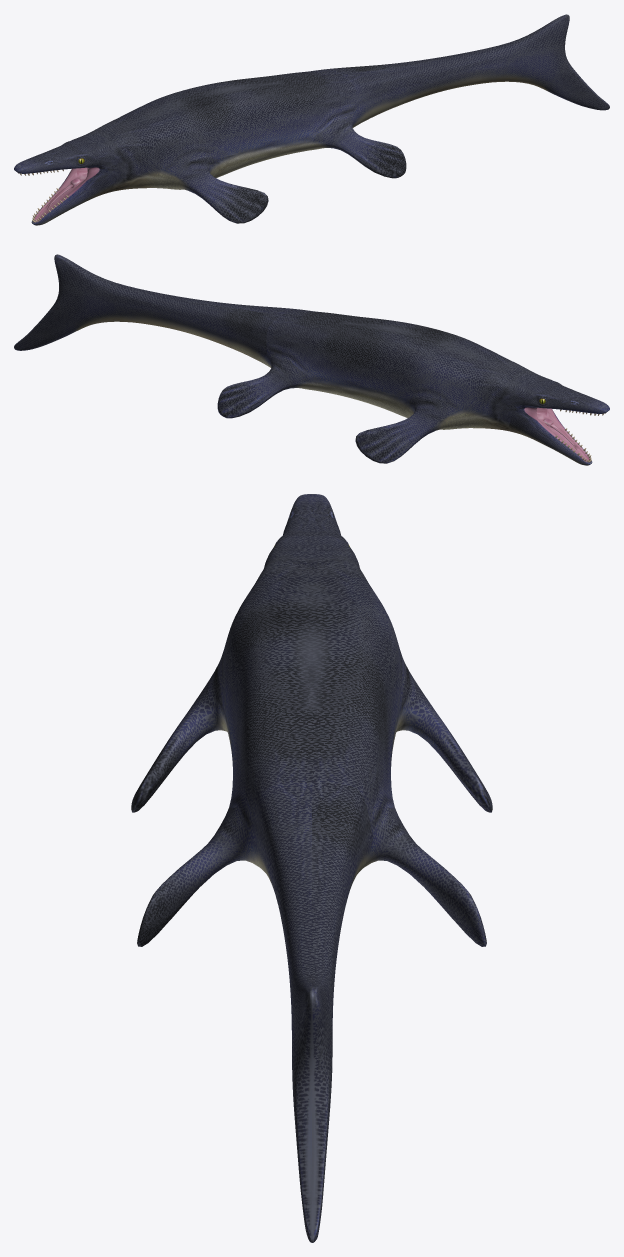
Rendered from mosasaurus.glb.
3 renders of one model, top to bottom at view 1: azimuth 30°, elevation 25°; view 2: azimuth 150°, elevation 25°; view 3: azimuth 270°, elevation 25°, orthographic. The views are drawn at different scales.
Visible parts, largest first — view 1: Animal; view 2: Animal; view 3: Animal.
Part boxes in pixels (box(x1,y1,x2,y2)): Animal: box(14, 14, 609, 225); Animal: box(14, 254, 609, 465); Animal: box(131, 494, 492, 1242).
Bounding box in the file's own units: 3.2 × 0.5807 × 0.8421.
2 materials, 2 textured.
